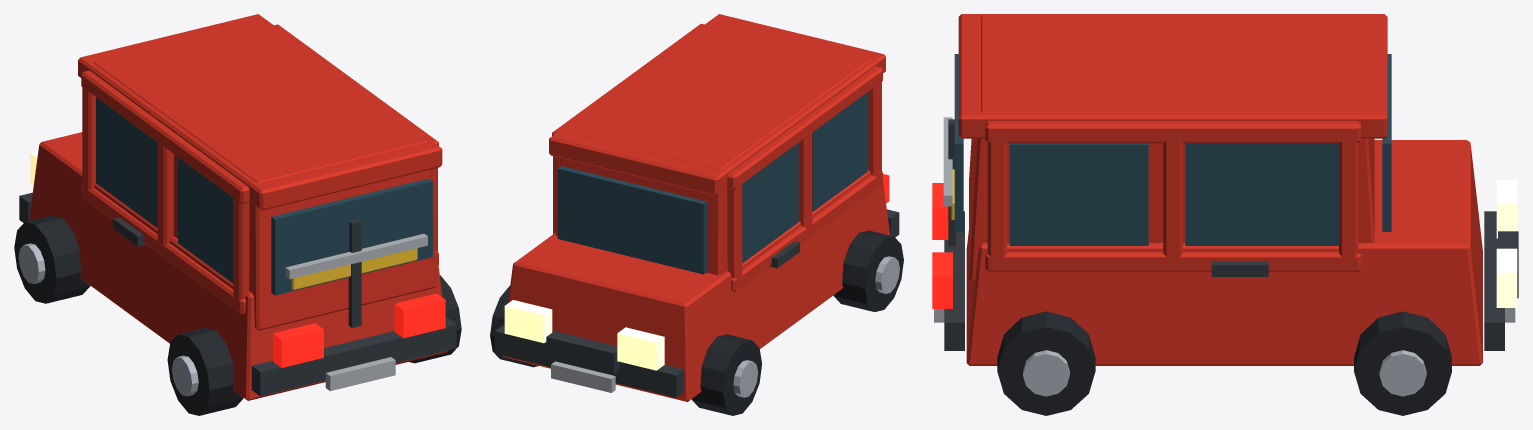
Rendered from npc_toy_city_van.glb.
3 renders of one model, left to right at view 1: azimuth 30°, elevation 25°; view 2: azimuth 150°, elevation 25°; view 3: azimuth 270°, elevation 25°, orthographic. The views are drawn at different scales.
Parts seen in each view (by area): view 1: NPC_Toy_City_Van_Paint, NPC_Toy_City_Van_Glass, NPC_Toy_City_Van_Trim, npc_toy_city_van_Wheel_FL_Tire, npc_toy_city_van_Wheel_RL_Tire, NPC_Toy_City_Van_Rear, NPC_Toy_City_Van_Silver, NPC_Toy_City_Van_Paint2, npc_toy_city_van_Wheel_FL_Hub, npc_toy_city_van_Wheel_RL_Hub, npc_toy_city_van_Wheel_RR_Tire; view 2: NPC_Toy_City_Van_Paint, NPC_Toy_City_Van_Glass, NPC_Toy_City_Van_Trim, npc_toy_city_van_Wheel_FL_Tire, npc_toy_city_van_Wheel_RL_Tire, NPC_Toy_City_Van_Light, NPC_Toy_City_Van_Silver, npc_toy_city_van_Wheel_FL_Hub, npc_toy_city_van_Wheel_RL_Hub, npc_toy_city_van_Wheel_FR_Tire; view 3: NPC_Toy_City_Van_Paint, NPC_Toy_City_Van_Glass, npc_toy_city_van_Wheel_FR_Tire, npc_toy_city_van_Wheel_RR_Tire, NPC_Toy_City_Van_Trim, NPC_Toy_City_Van_Light, NPC_Toy_City_Van_Rear, npc_toy_city_van_Wheel_FR_Hub, npc_toy_city_van_Wheel_RR_Hub, NPC_Toy_City_Van_Silver.
Part boxes in pixels (left/top/right/bottom): NPC_Toy_City_Van_Paint: left=29, top=14, right=447, bottom=400; NPC_Toy_City_Van_Glass: left=96, top=97, right=432, bottom=295; NPC_Toy_City_Van_Trim: left=19, top=192, right=456, bottom=396; npc_toy_city_van_Wheel_FL_Tire: left=14, top=215, right=90, bottom=303; npc_toy_city_van_Wheel_RL_Tire: left=167, top=327, right=243, bottom=415; NPC_Toy_City_Van_Rear: left=273, top=293, right=445, bottom=367; NPC_Toy_City_Van_Silver: left=285, top=233, right=427, bottom=391; NPC_Toy_City_Van_Paint2: left=291, top=248, right=417, bottom=290; npc_toy_city_van_Wheel_FL_Hub: left=18, top=243, right=45, bottom=283; npc_toy_city_van_Wheel_RL_Hub: left=172, top=355, right=198, bottom=396; npc_toy_city_van_Wheel_RR_Tire: left=409, top=275, right=461, bottom=363; NPC_Toy_City_Van_Paint: left=502, top=14, right=890, bottom=401; NPC_Toy_City_Van_Glass: left=557, top=92, right=868, bottom=274; NPC_Toy_City_Van_Trim: left=494, top=209, right=899, bottom=397; npc_toy_city_van_Wheel_FL_Tire: left=692, top=334, right=761, bottom=415; npc_toy_city_van_Wheel_RL_Tire: left=833, top=230, right=903, bottom=311; NPC_Toy_City_Van_Light: left=504, top=300, right=664, bottom=370; NPC_Toy_City_Van_Silver: left=551, top=361, right=615, bottom=392; npc_toy_city_van_Wheel_FL_Hub: left=733, top=360, right=757, bottom=397; npc_toy_city_van_Wheel_RL_Hub: left=875, top=256, right=899, bottom=293; npc_toy_city_van_Wheel_FR_Tire: left=490, top=286, right=538, bottom=367; NPC_Toy_City_Van_Paint: left=958, top=14, right=1482, bottom=365; NPC_Toy_City_Van_Glass: left=954, top=54, right=1391, bottom=245; npc_toy_city_van_Wheel_FR_Tire: left=1354, top=311, right=1451, bottom=415; npc_toy_city_van_Wheel_RR_Tire: left=997, top=311, right=1095, bottom=415; NPC_Toy_City_Van_Trim: left=944, top=119, right=1518, bottom=350; NPC_Toy_City_Van_Light: left=1496, top=179, right=1517, bottom=307; NPC_Toy_City_Van_Rear: left=932, top=183, right=952, bottom=308; npc_toy_city_van_Wheel_FR_Hub: left=1379, top=350, right=1426, bottom=396; npc_toy_city_van_Wheel_RR_Hub: left=1023, top=350, right=1069, bottom=396; NPC_Toy_City_Van_Silver: left=934, top=117, right=1515, bottom=322.
Bounding box in the file's own units: 1.38 × 1.2 × 2.27.
